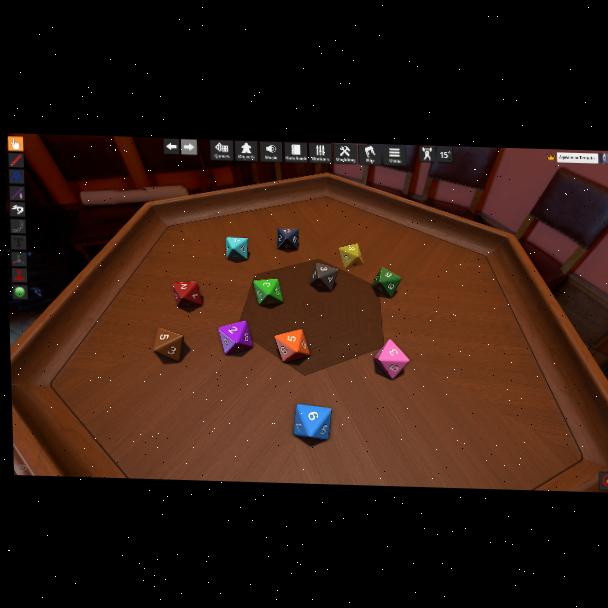d8: (293, 404, 333, 441), (373, 339, 409, 380), (275, 329, 310, 364), (220, 321, 252, 356), (154, 328, 185, 363), (371, 268, 401, 299), (172, 279, 201, 309), (252, 277, 281, 306), (310, 263, 338, 293), (338, 243, 362, 269), (226, 236, 249, 261), (277, 228, 299, 251)
